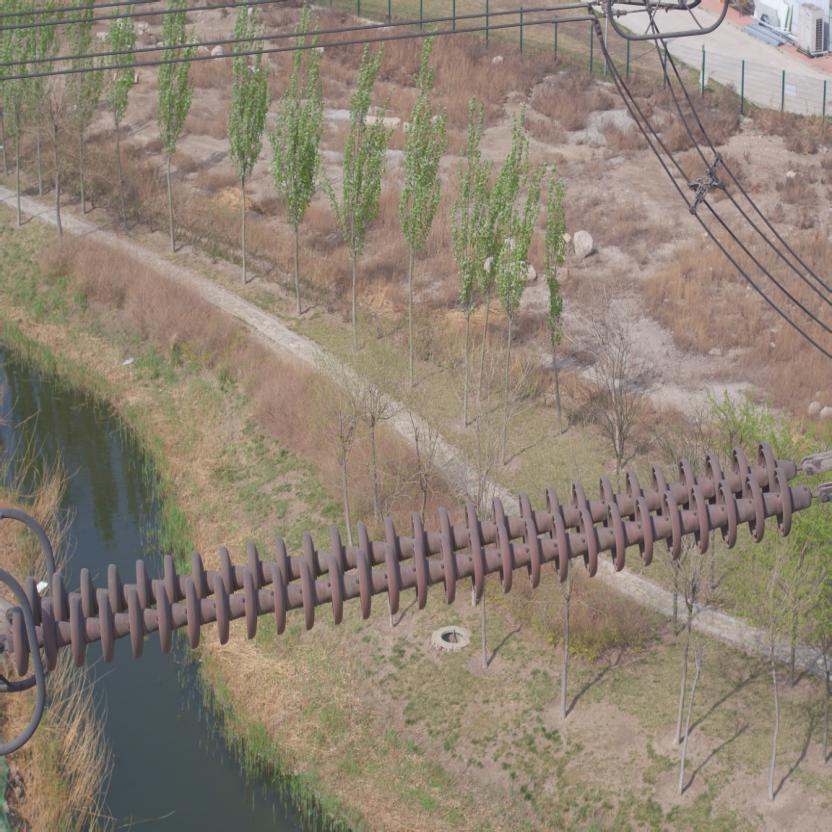insulator: (1, 434, 831, 680)
